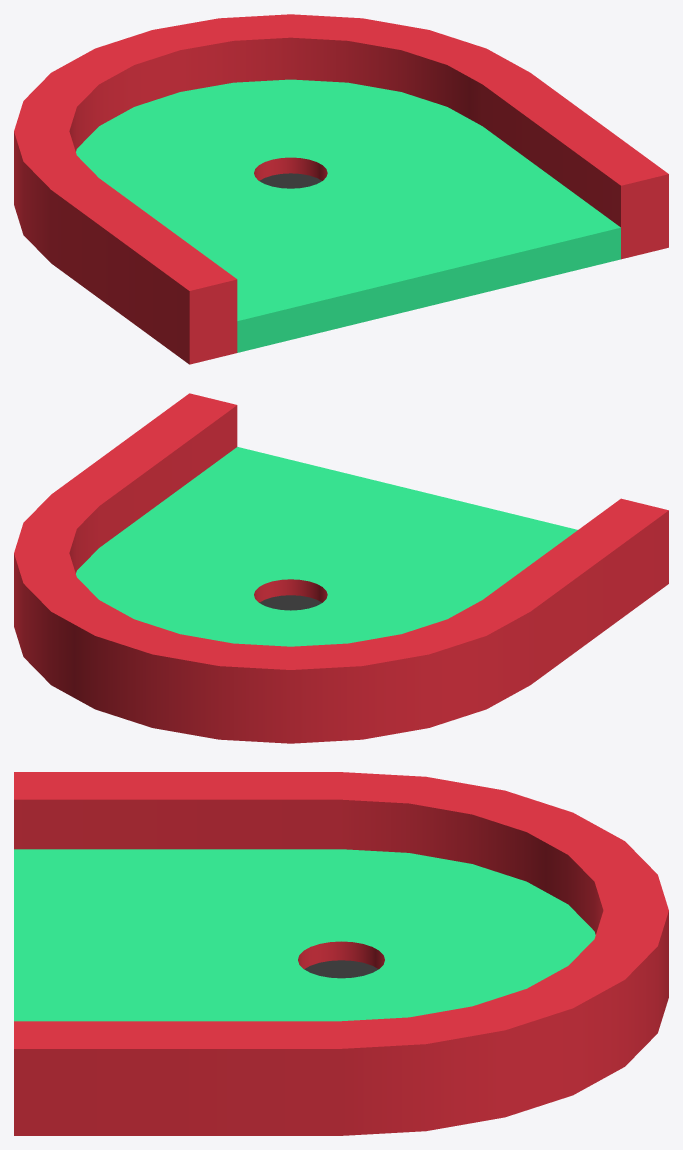
The model's file is holeRound.glb.
3 views of the same model, one above another, from view 1: azimuth 30°, elevation 25°; view 2: azimuth 150°, elevation 25°; view 3: azimuth 270°, elevation 25° (orthographic). The views are drawn at different scales.
Visible parts, largest first — view 1: holeRound; view 2: holeRound; view 3: holeRound.
Boxes of the visible parts, bbox=[...] form: holeRound: bbox=[14, 14, 668, 364]; holeRound: bbox=[14, 393, 668, 743]; holeRound: bbox=[14, 772, 668, 1135].
Size of the model in its own units: 0.9999 by 0.1467 by 0.9999.
